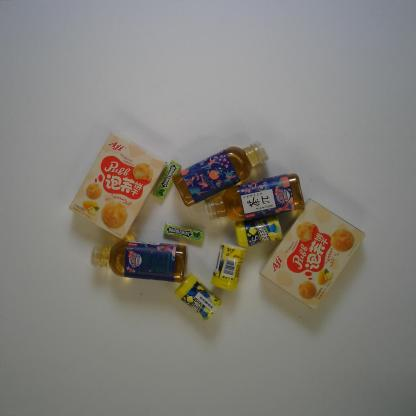Dessert: (255, 198, 367, 314), (67, 129, 166, 241)
Drink: (168, 138, 272, 208), (202, 172, 307, 226), (90, 238, 191, 284)
Gum: (174, 273, 224, 323), (209, 242, 250, 296), (233, 213, 284, 251), (152, 158, 184, 200), (162, 222, 207, 245)
